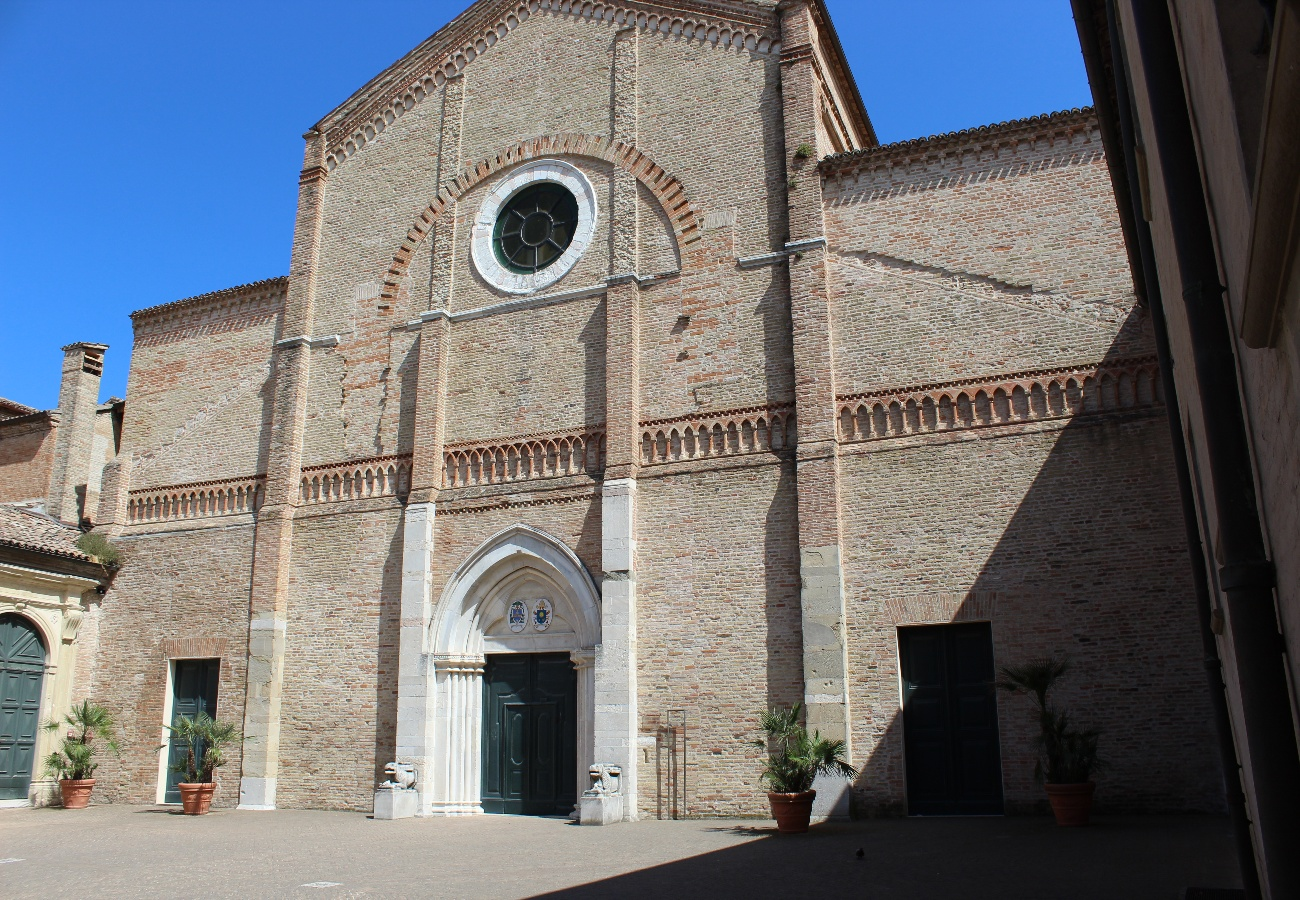Cattedrale Santa Maria Assunta: (102, 3, 1080, 836)
